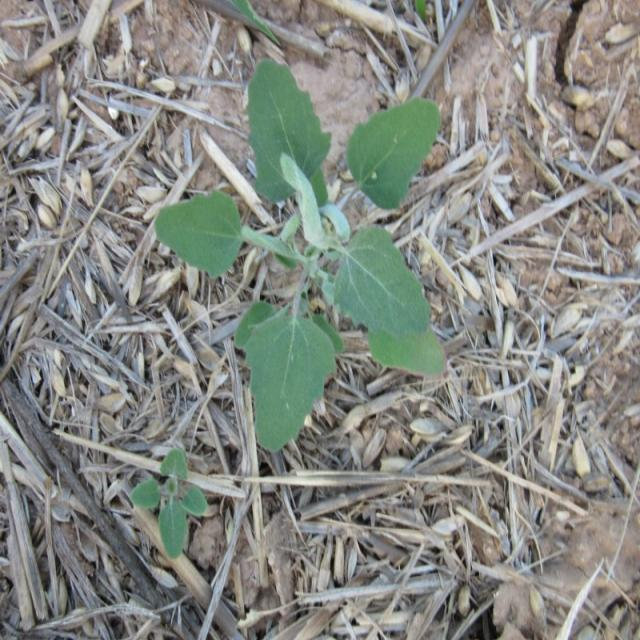ca: (154, 61, 446, 386)
